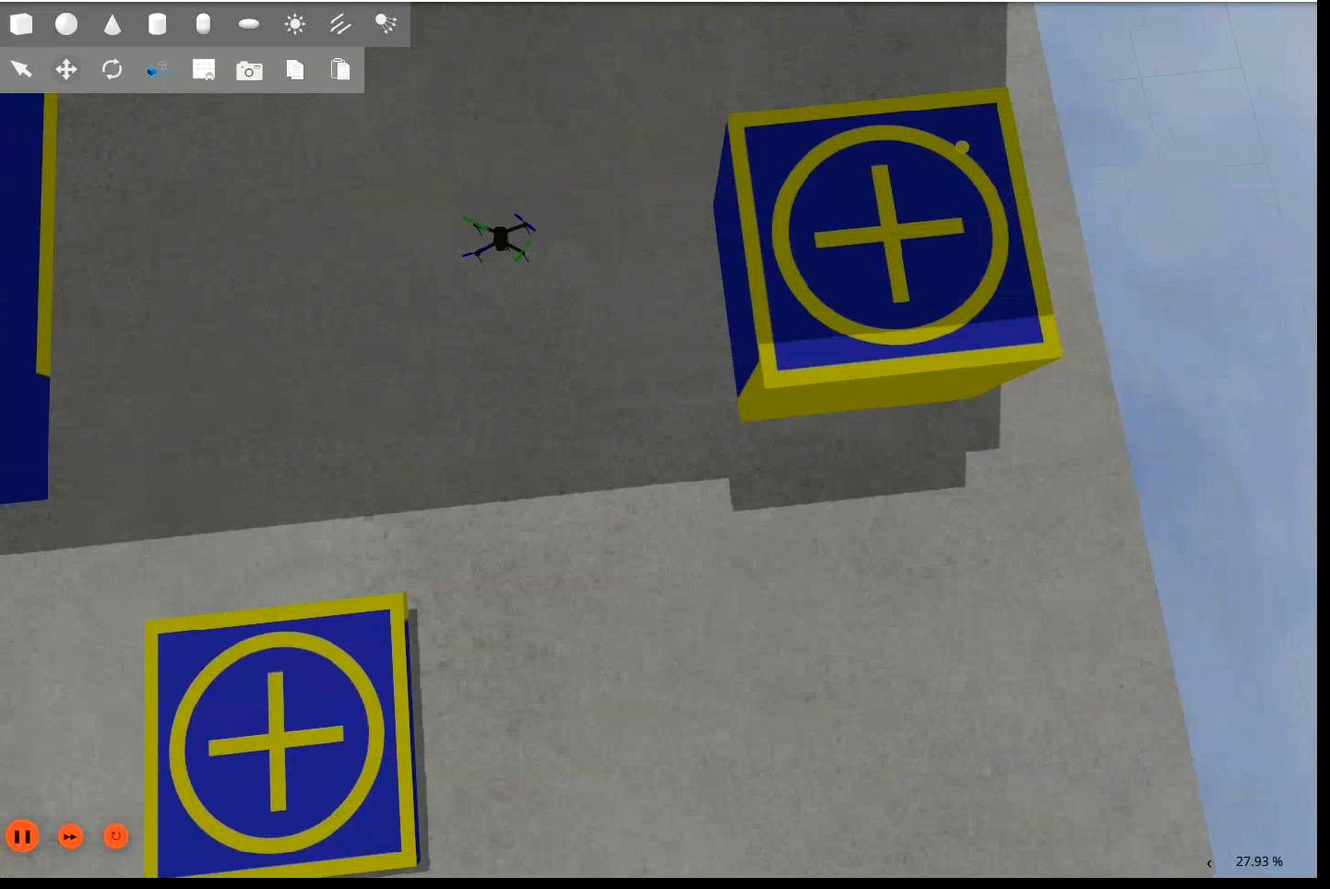small_base: (725, 89, 1070, 389), (137, 590, 433, 880)
